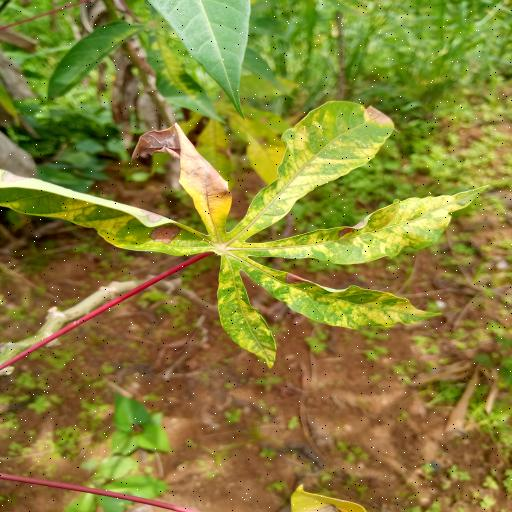Cassava_Mosaic: (0, 98, 498, 368)
